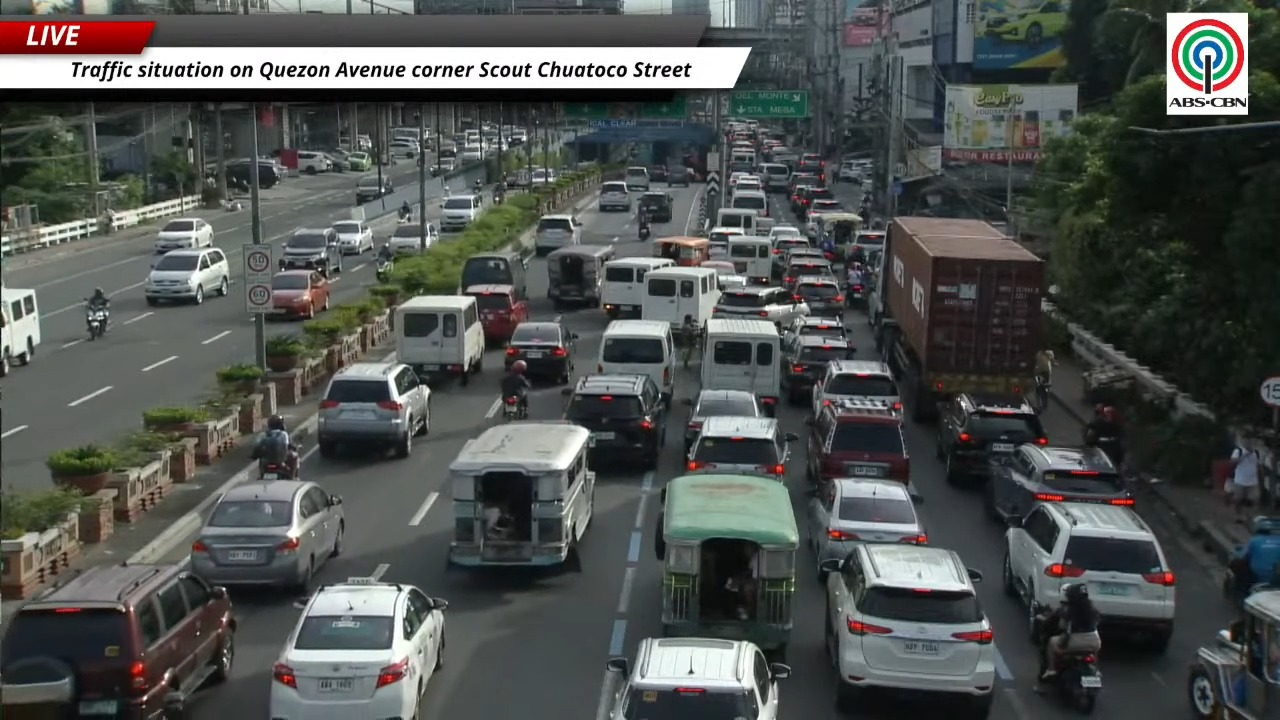car: (0, 563, 235, 719), (821, 543, 995, 719), (1003, 502, 1175, 652), (268, 578, 447, 719), (190, 481, 344, 592), (607, 638, 790, 719), (806, 478, 927, 582), (985, 443, 1133, 520), (317, 361, 430, 457), (936, 393, 1047, 483), (562, 375, 668, 468), (806, 399, 909, 489), (686, 415, 798, 481), (780, 326, 855, 404), (684, 389, 763, 454), (143, 248, 229, 305), (812, 360, 901, 415), (504, 320, 577, 383), (462, 284, 528, 345), (982, 0, 1067, 46), (712, 285, 808, 325), (279, 228, 341, 277), (271, 270, 329, 318), (771, 237, 824, 280), (782, 253, 835, 294), (792, 275, 844, 316), (154, 218, 213, 253), (534, 214, 583, 255), (782, 316, 847, 342), (439, 194, 482, 231), (387, 223, 437, 254), (805, 200, 845, 237), (331, 220, 373, 254), (789, 175, 819, 219), (355, 175, 393, 204), (637, 192, 673, 222), (597, 181, 631, 211), (296, 150, 332, 174), (797, 153, 824, 183), (787, 172, 819, 196), (226, 160, 252, 189), (624, 166, 649, 191), (836, 160, 862, 184), (388, 139, 420, 158), (732, 176, 764, 195), (768, 225, 803, 242), (727, 171, 751, 194), (345, 151, 372, 171), (666, 165, 691, 186), (326, 149, 348, 172), (431, 157, 456, 176), (649, 164, 668, 182)
motorcycle: (1044, 653, 1101, 713), (260, 444, 299, 480), (1086, 436, 1123, 469), (86, 305, 108, 340), (1034, 375, 1051, 412), (502, 395, 525, 422), (261, 462, 290, 480), (375, 257, 393, 282), (846, 284, 864, 307), (398, 208, 412, 223), (638, 224, 650, 240), (493, 191, 504, 204)
truck: (876, 216, 1045, 421)
